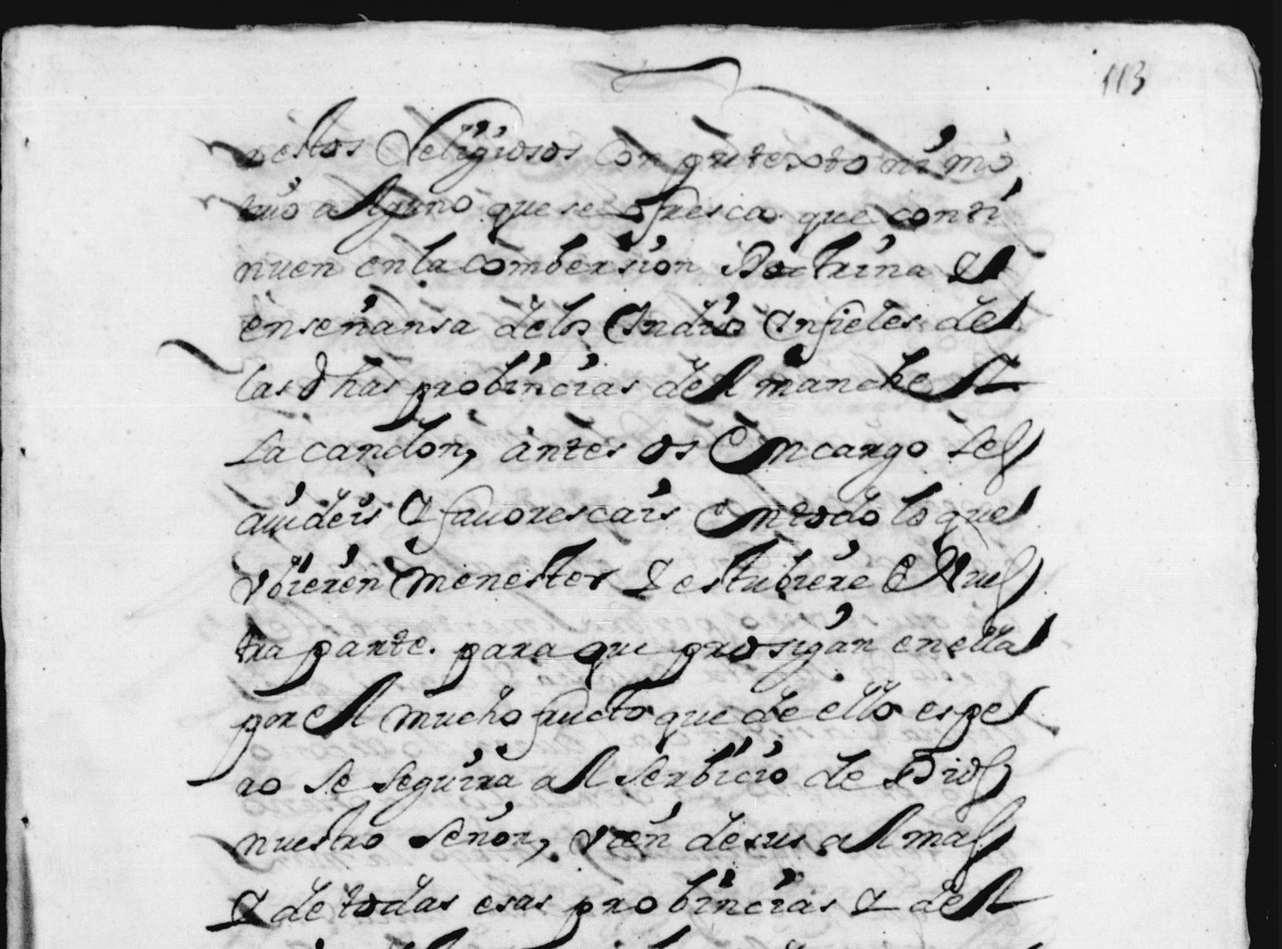lacandon: (224, 411, 466, 467)
